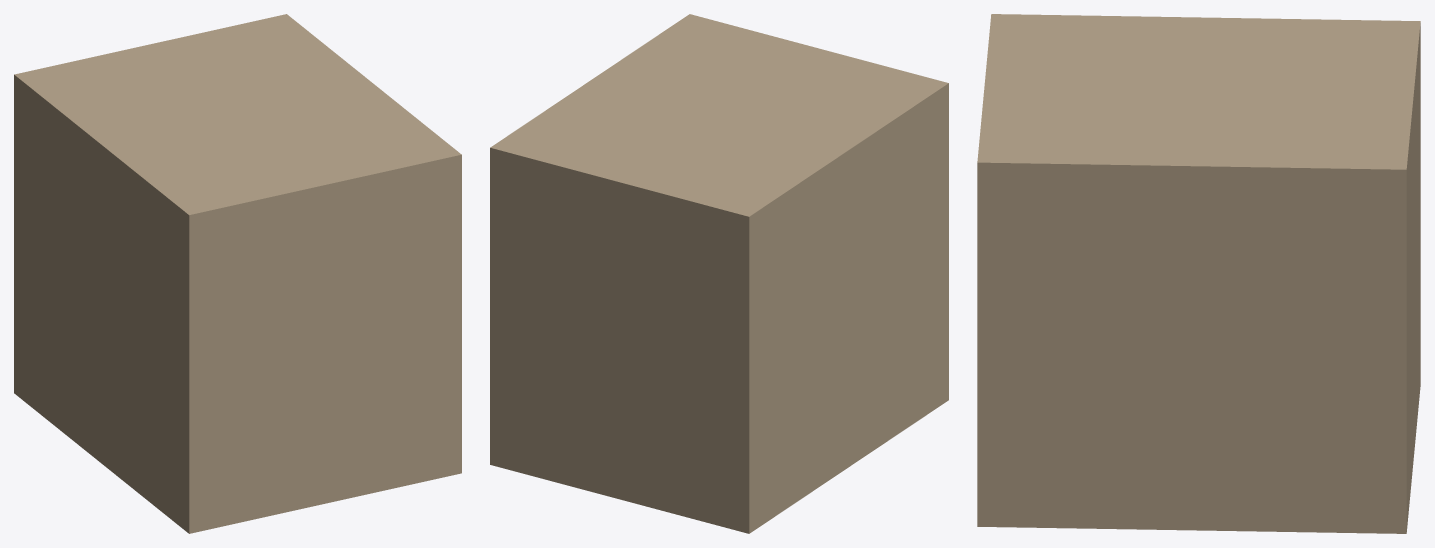
File: bld_101374768.dae
3 views of the same model, side by side, from view 1: azimuth 30°, elevation 25°; view 2: azimuth 150°, elevation 25°; view 3: azimuth 270°, elevation 25° (orthographic). The views are drawn at different scales.
Parts seen in each view (by area): view 1: bld_101374768; view 2: bld_101374768; view 3: bld_101374768.
Part boxes in pixels (bbox=[...]): bld_101374768: bbox=[14, 14, 461, 533]; bld_101374768: bbox=[490, 14, 948, 533]; bld_101374768: bbox=[977, 14, 1420, 533].
Size of the model in its own units: 7.34 by 8.82 by 8.
